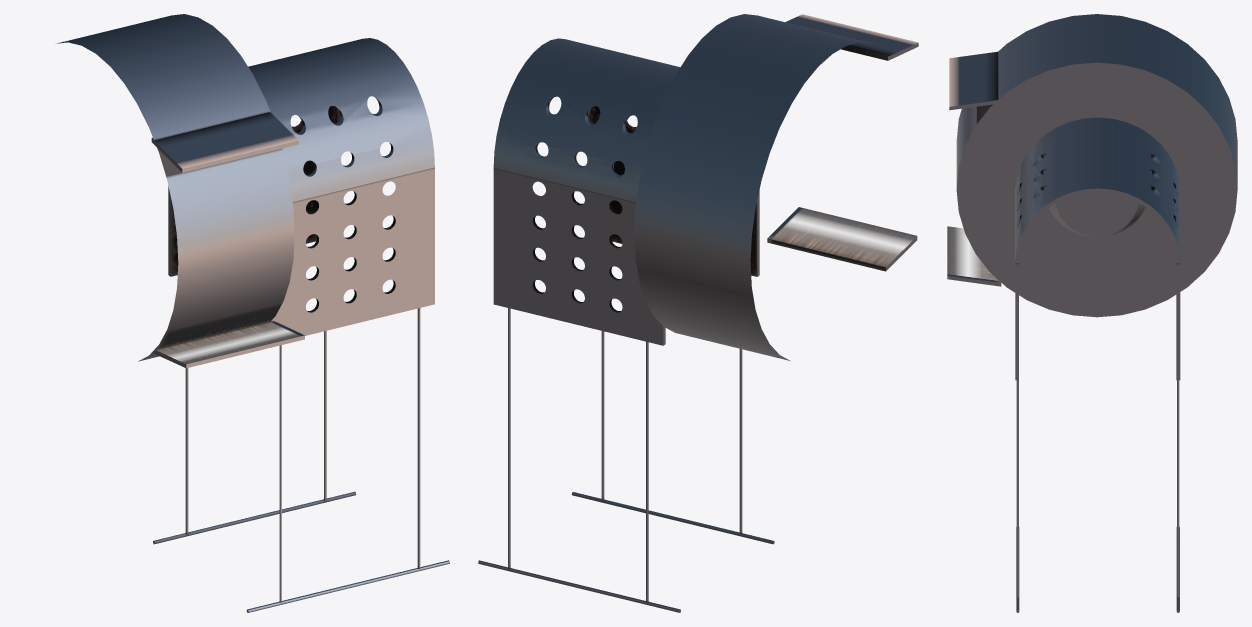
The model's file is dianzi_3.glb.
The picture shows the model from 3 angles, left to right: view 1: azimuth 30°, elevation 25°; view 2: azimuth 150°, elevation 25°; view 3: azimuth 270°, elevation 25°; orthographic projection. The views are drawn at different scales.
Parts seen in each view (by area): view 1: 零件; view 2: 零件; view 3: 零件.
Part boxes in pixels (x1,y1,x2,y2): 零件: [57, 14, 449, 612]; 零件: [478, 14, 918, 612]; 零件: [947, 14, 1237, 612].
Size of the model in its own units: 2.88 by 4.94 by 2.76.
Materials: 2 (2 with a texture image).
